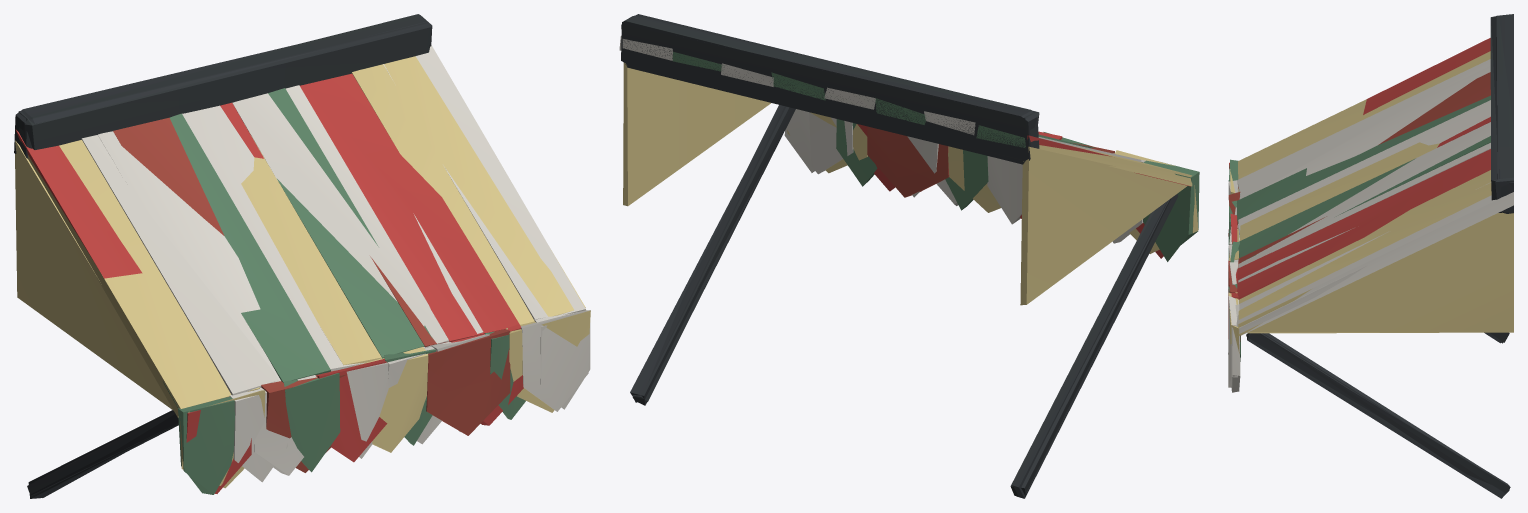
File: awning.glb
3 views of the same model, side by side, from view 1: azimuth 30°, elevation 25°; view 2: azimuth 150°, elevation 25°; view 3: azimuth 270°, elevation 25° (orthographic). The views are drawn at different scales.
Visible parts, largest first — view 1: awning.v2.mesh, awning.v0.mesh, awning.v1.mesh; view 2: awning.v2.mesh, awning.v1.mesh, awning.v0.mesh; view 3: awning.v2.mesh, awning.v0.mesh, awning.v1.mesh.
Boxes of the visible parts, <box> form: awning.v2.mesh: <box>15,14,590,498</box>; awning.v0.mesh: <box>14,21,590,497</box>; awning.v1.mesh: <box>18,23,590,498</box>; awning.v2.mesh: <box>622,15,1198,496</box>; awning.v1.mesh: <box>621,14,1199,498</box>; awning.v0.mesh: <box>619,16,1190,493</box>; awning.v2.mesh: <box>1228,15,1513,493</box>; awning.v0.mesh: <box>1228,15,1513,498</box>; awning.v1.mesh: <box>1228,14,1513,494</box>.
Size of the model in its own units: 0.9517 by 0.8588 by 0.686.
